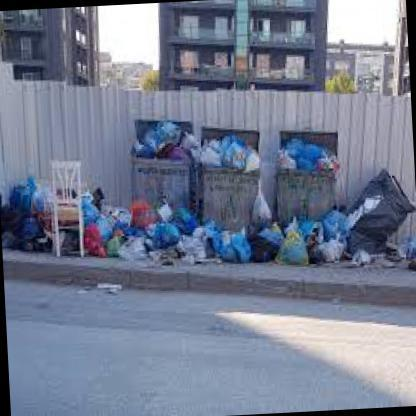Garbage: (358, 163, 415, 280), (79, 184, 156, 260), (344, 167, 403, 264), (110, 208, 204, 261), (2, 178, 52, 254), (265, 215, 353, 257), (131, 120, 196, 161), (198, 136, 260, 173), (194, 232, 264, 262), (278, 140, 340, 173), (404, 220, 415, 274)
